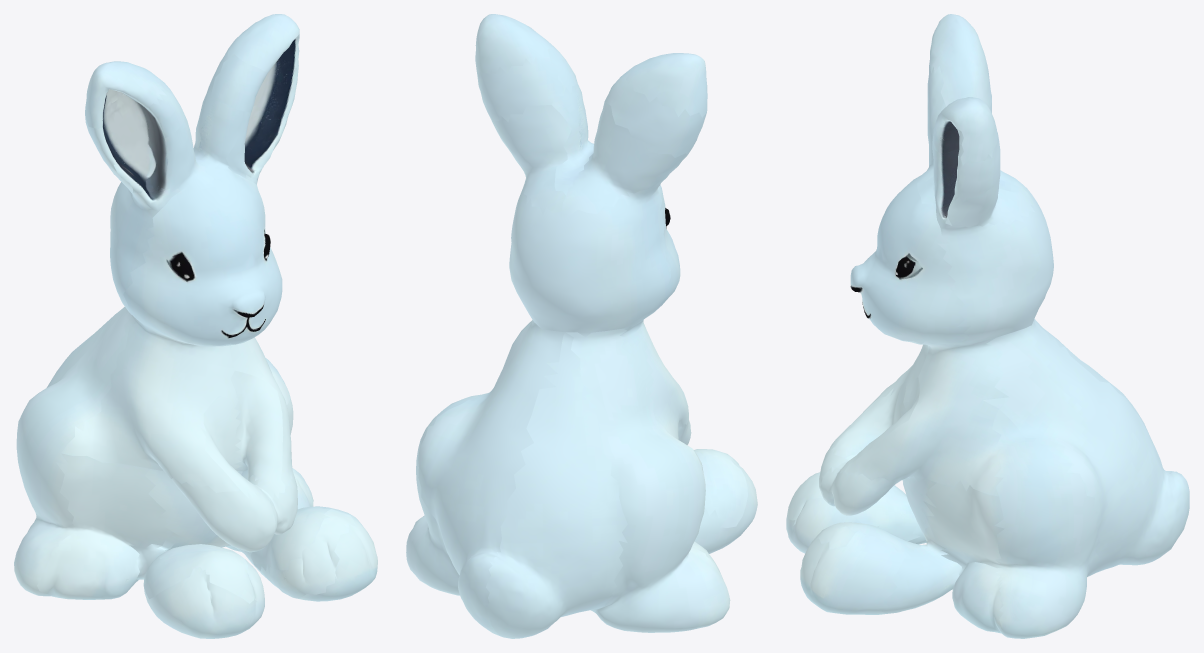
The model's file is ice_rabbit.glb.
The picture shows the model from 3 angles, left to right: view 1: azimuth 30°, elevation 25°; view 2: azimuth 150°, elevation 25°; view 3: azimuth 270°, elevation 25°; orthographic projection. The views are drawn at different scales.
Size of the model in its own units: 1.12 by 1.91 by 1.35.
Materials: 1 (1 with a texture image).
